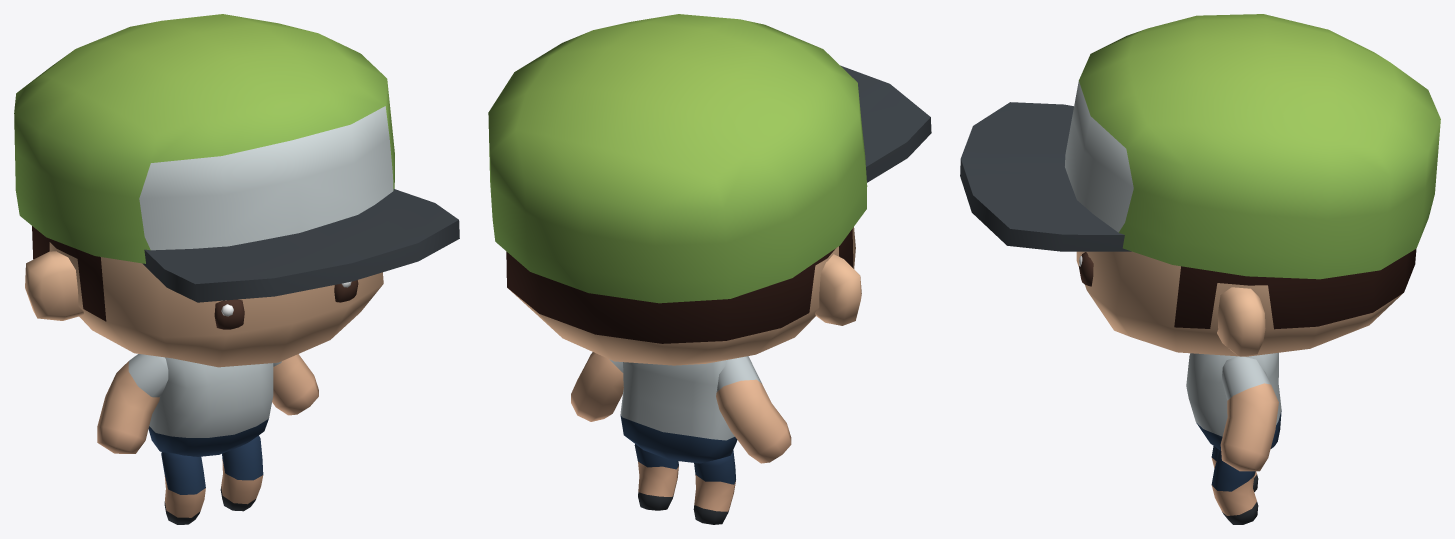
File: idle_0038.obj
3 renders of one model, left to right at view 1: azimuth 30°, elevation 25°; view 2: azimuth 150°, elevation 25°; view 3: azimuth 270°, elevation 25°, orthographic.
Parts seen in each view (by area): view 1: Object_41, Object_42, Object_36, Object_44, Object_38; view 2: Object_41, Object_44, Object_36, Object_42; view 3: Object_41, Object_36, Object_42, Object_44.
Part boxes in pixels (x1,y1,x2,y2): Object_41: [14, 14, 394, 263]; Object_42: [139, 106, 459, 302]; Object_36: [25, 226, 383, 367]; Object_44: [97, 354, 318, 524]; Object_38: [214, 280, 358, 329]; Object_41: [488, 14, 867, 303]; Object_44: [571, 352, 791, 524]; Object_36: [506, 227, 861, 365]; Object_42: [840, 65, 931, 182]; Object_41: [1079, 14, 1440, 279]; Object_36: [1076, 249, 1416, 356]; Object_42: [960, 81, 1133, 251]; Object_44: [1186, 352, 1281, 524].
Bounding box in the file's own units: 0.9691 × 1.22 × 1.14.
